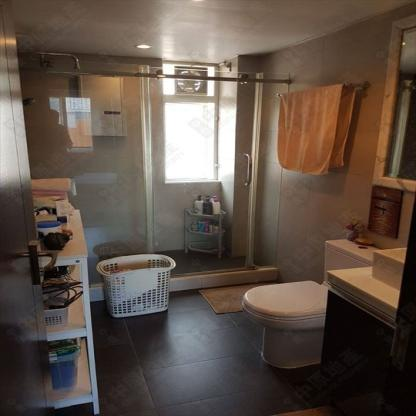Exhaust Fan: (171, 66, 209, 93)
Toilet: (240, 236, 385, 369)
Toilet Sink: (370, 247, 406, 292)
Water Cubicle: (19, 60, 293, 274)
Water Heater: (69, 74, 124, 137)
